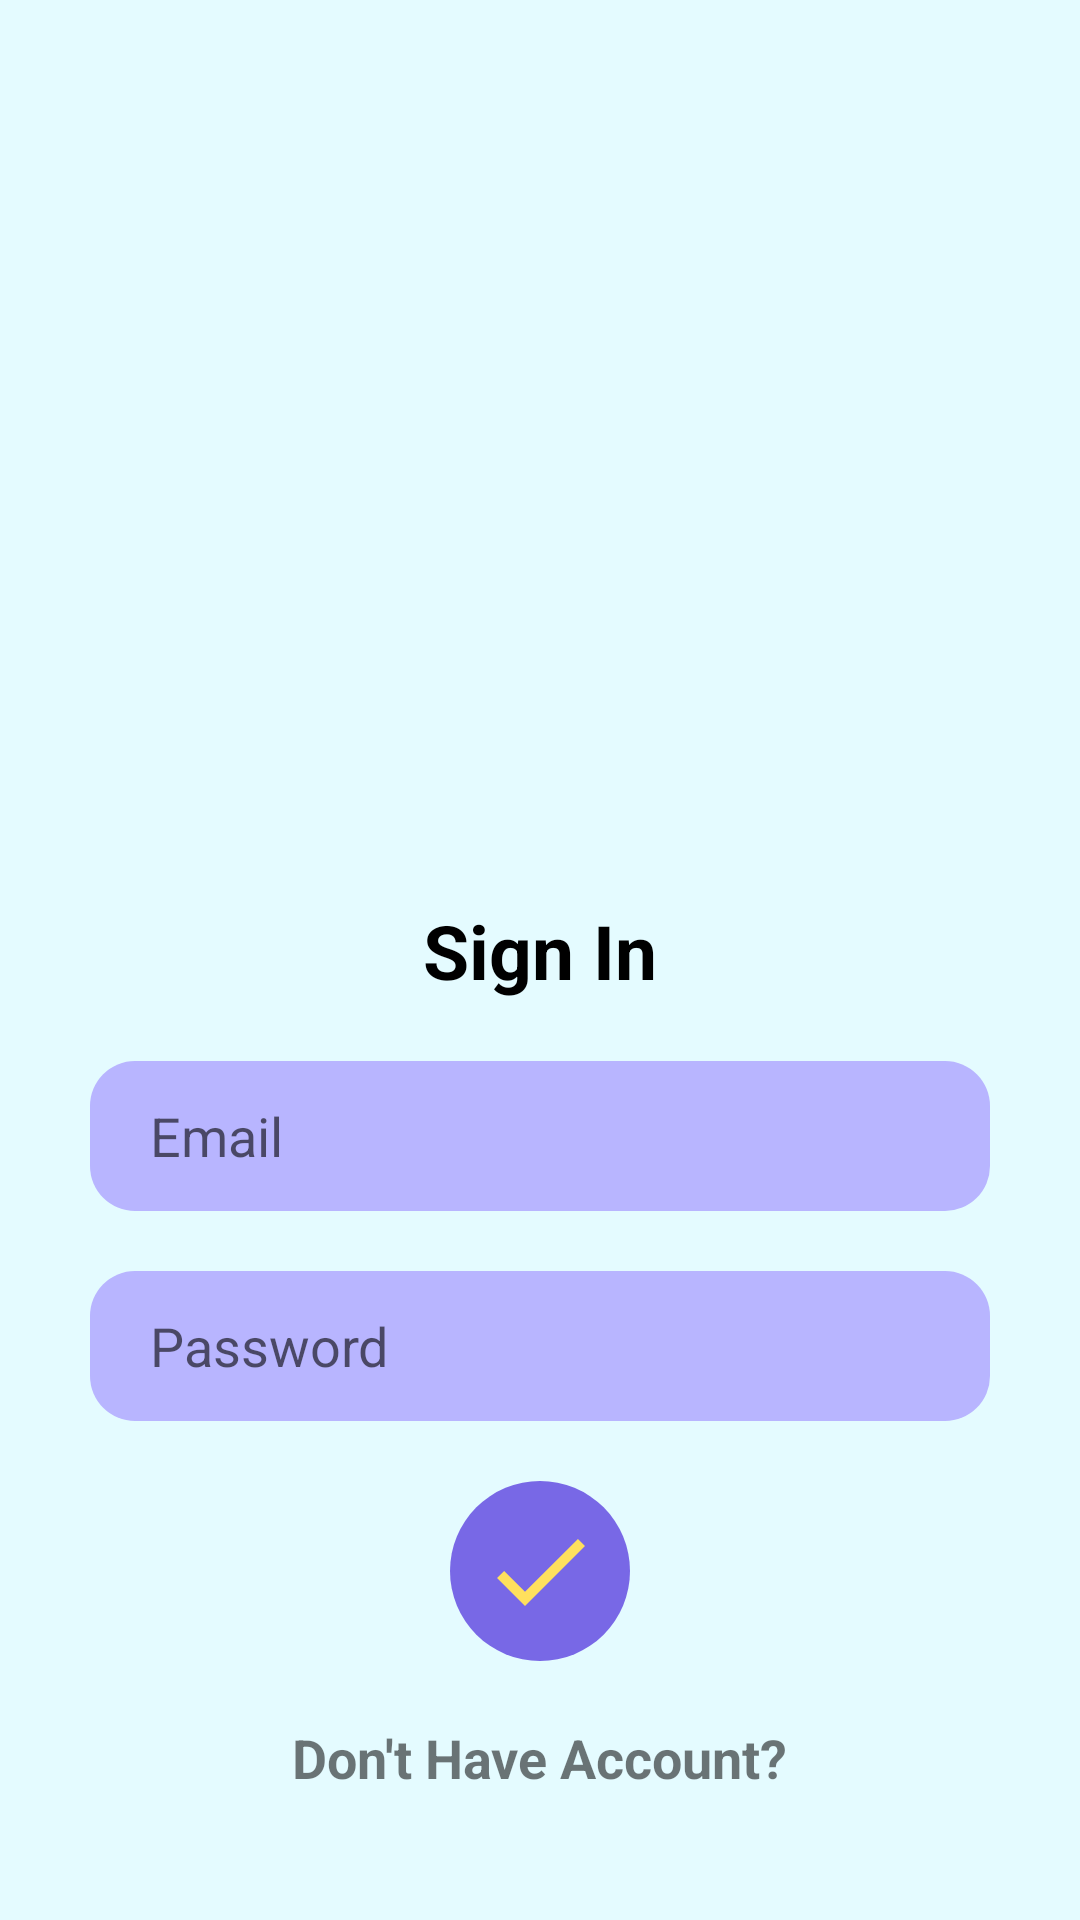

Icon bounding boxes for this 1080px x 1920px phone screenshot, format bbox=[x1, y1, x2, y2]:
check: bbox=[450, 1481, 630, 1661]
